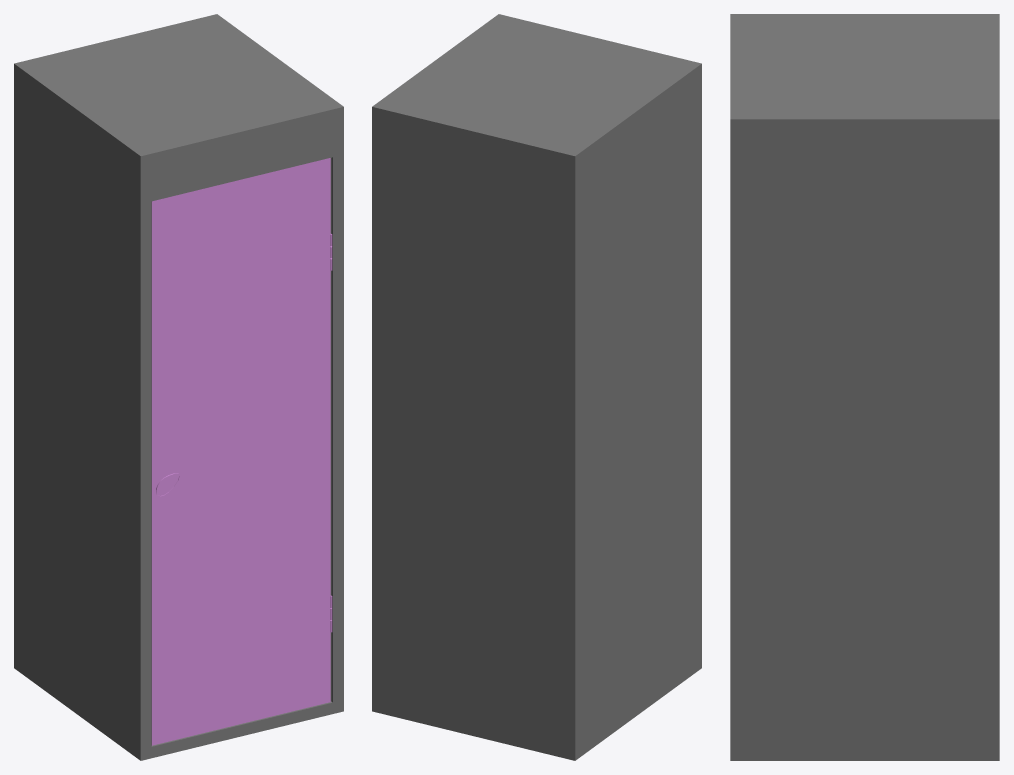
The model's file is locker_single_exp.fbx.
3 renders of one model, left to right at view 1: azimuth 30°, elevation 25°; view 2: azimuth 150°, elevation 25°; view 3: azimuth 270°, elevation 25°, orthographic. The views are drawn at different scales.
Parts seen in each view (by area): view 1: single locker, door; view 2: single locker; view 3: single locker.
Boxes of the visible parts, x1=… form: single locker: x1=14, y1=14, x2=343, y2=760; door: x1=151, y1=158, x2=332, y2=745; single locker: x1=372, y1=14, x2=701, y2=760; single locker: x1=730, y1=14, x2=999, y2=760.
Bounding box in the file's own units: 18.51 × 52.64 × 20.
